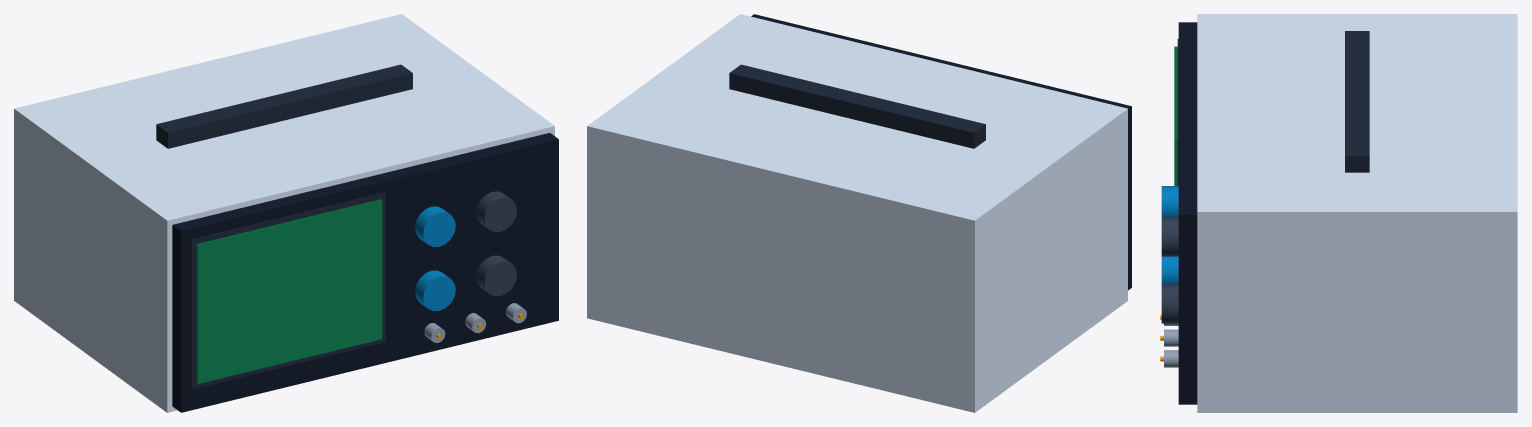
File: oscilloscope.glb
3 renders of one model, left to right at view 1: azimuth 30°, elevation 25°; view 2: azimuth 150°, elevation 25°; view 3: azimuth 270°, elevation 25°, orthographic. The views are drawn at different scales.
Parts seen in each view (by area): view 1: Tektronix_Oscilloscope, Oscilloscope_Screen_Display, Knob_VoltsDiv_Ch2, Knob_VoltsDiv_Ch1, Knob_Trigger, Knob_TimeDiv; view 2: Tektronix_Oscilloscope; view 3: Tektronix_Oscilloscope, Knob_VoltsDiv_Ch2, Knob_Trigger, Knob_TimeDiv, Oscilloscope_Screen_Display, Knob_VoltsDiv_Ch1.
Part boxes in pixels (left/top/right/bottom): Tektronix_Oscilloscope: left=14, top=14, right=558, bottom=412; Oscilloscope_Screen_Display: left=197, top=199, right=382, bottom=383; Knob_VoltsDiv_Ch2: left=476, top=255, right=516, bottom=296; Knob_VoltsDiv_Ch1: left=415, top=270, right=455, bottom=310; Knob_Trigger: left=476, top=191, right=516, bottom=231; Knob_TimeDiv: left=415, top=206, right=455, bottom=246; Tektronix_Oscilloscope: left=587, top=14, right=1131, bottom=412; Tektronix_Oscilloscope: left=1160, top=14, right=1517, bottom=412; Knob_VoltsDiv_Ch2: left=1161, top=284, right=1178, bottom=323; Knob_Trigger: left=1161, top=217, right=1178, bottom=256; Knob_TimeDiv: left=1161, top=186, right=1178, bottom=217; Oscilloscope_Screen_Display: left=1174, top=46, right=1177, bottom=185; Knob_VoltsDiv_Ch1: left=1161, top=256, right=1178, bottom=284.
Size of the model in its own units: 0.38 by 0.1975 by 0.29.
